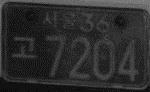0: (92, 37, 115, 81)
2: (68, 36, 91, 80)
3: (78, 11, 94, 32)
4: (117, 39, 139, 81)
6: (95, 13, 110, 34)
7: (43, 34, 67, 78)
고: (11, 34, 39, 60)
서울_O: (41, 11, 76, 30)
